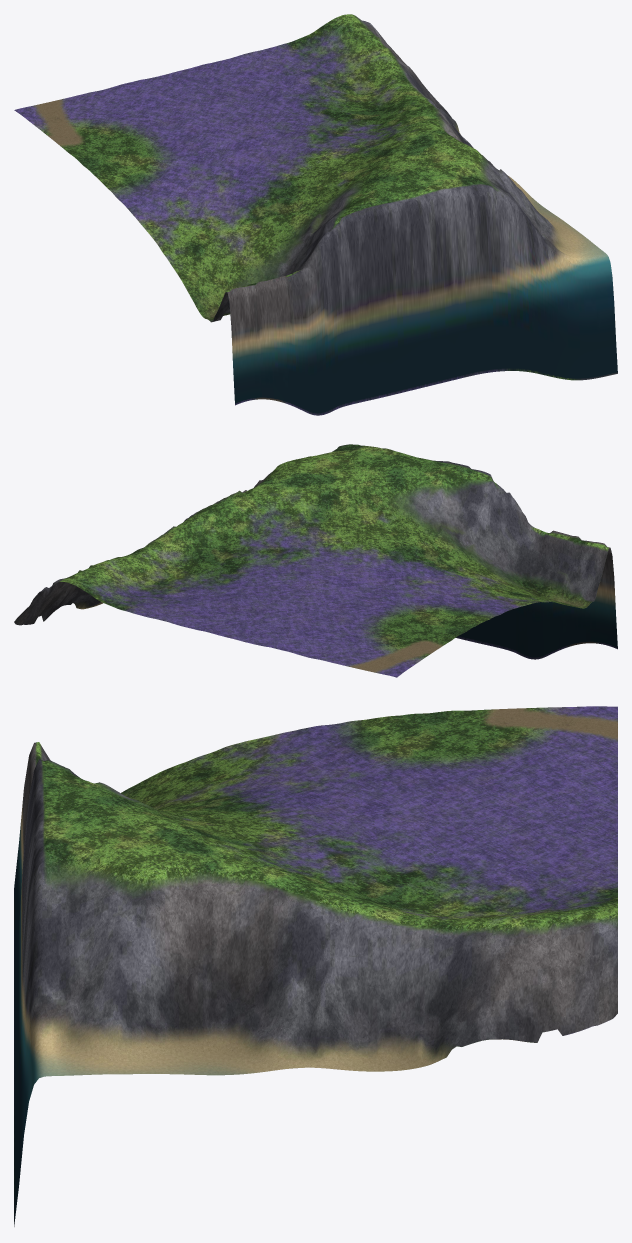
3 views of the same model, one above another, from view 1: azimuth 30°, elevation 25°; view 2: azimuth 150°, elevation 25°; view 3: azimuth 270°, elevation 25° (orthographic). The views are drawn at different scales.
Visible parts, largest first — view 1: t128_000; view 2: t128_000; view 3: t128_000.
Part boxes in pixels (x1,y1,x2,y2): t128_000: [14, 14, 617, 415]; t128_000: [14, 444, 617, 677]; t128_000: [14, 706, 617, 1226].
Size of the model in its own units: 64 by 35.04 by 64.
Materials: 1 (1 with a texture image).
